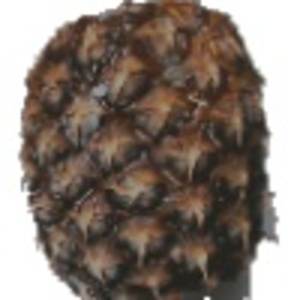abacaxi: (16, 5, 279, 296)
